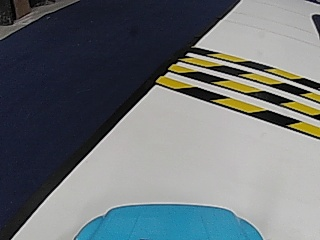bump: (183, 53, 312, 129)
